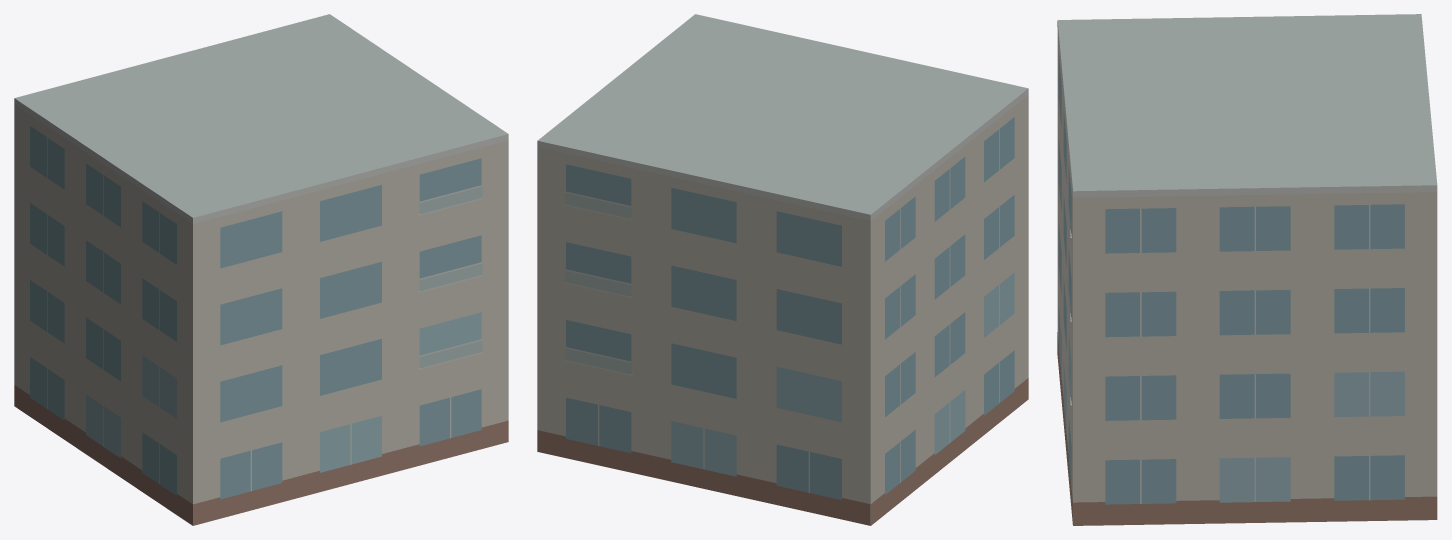
The model's file is residential-8f800468-63cd-4251-b88e-eac03604648e.glb.
3 views of the same model, side by side, from view 1: azimuth 30°, elevation 25°; view 2: azimuth 150°, elevation 25°; view 3: azimuth 270°, elevation 25° (orthographic). The views are drawn at different scales.
Visible parts, largest first — view 1: residential-8f800468-63cd-4251-b88e-eac03604648e.tmp; view 2: residential-8f800468-63cd-4251-b88e-eac03604648e.tmp; view 3: residential-8f800468-63cd-4251-b88e-eac03604648e.tmp.
Boxes of the visible parts, <box> form: residential-8f800468-63cd-4251-b88e-eac03604648e.tmp: <box>14,14,508,525</box>; residential-8f800468-63cd-4251-b88e-eac03604648e.tmp: <box>537,14,1028,525</box>; residential-8f800468-63cd-4251-b88e-eac03604648e.tmp: <box>1057,14,1437,525</box>.
Bounding box in the file's own units: 13.86 × 12.2 × 12.56.
